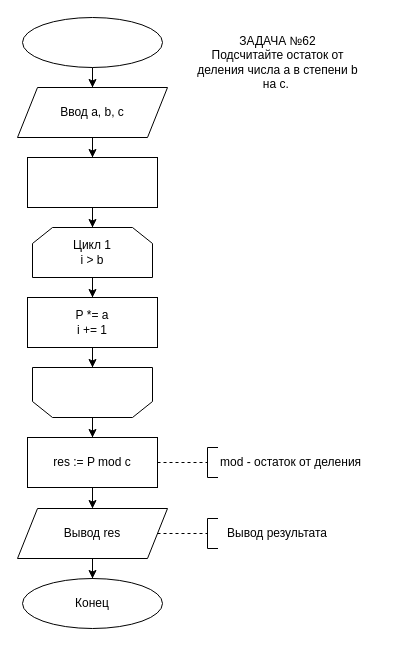
Some shapes in this 395 by 646 pixel diagram are drawn without their labels. The box of each missing label's shape, as (x1, y1, x2, y2) in pixels:
P := 1 i := 1: (26, 156, 158, 208)
Начало: (22, 16, 162, 68)
Цикл 1: (32, 366, 152, 418)
